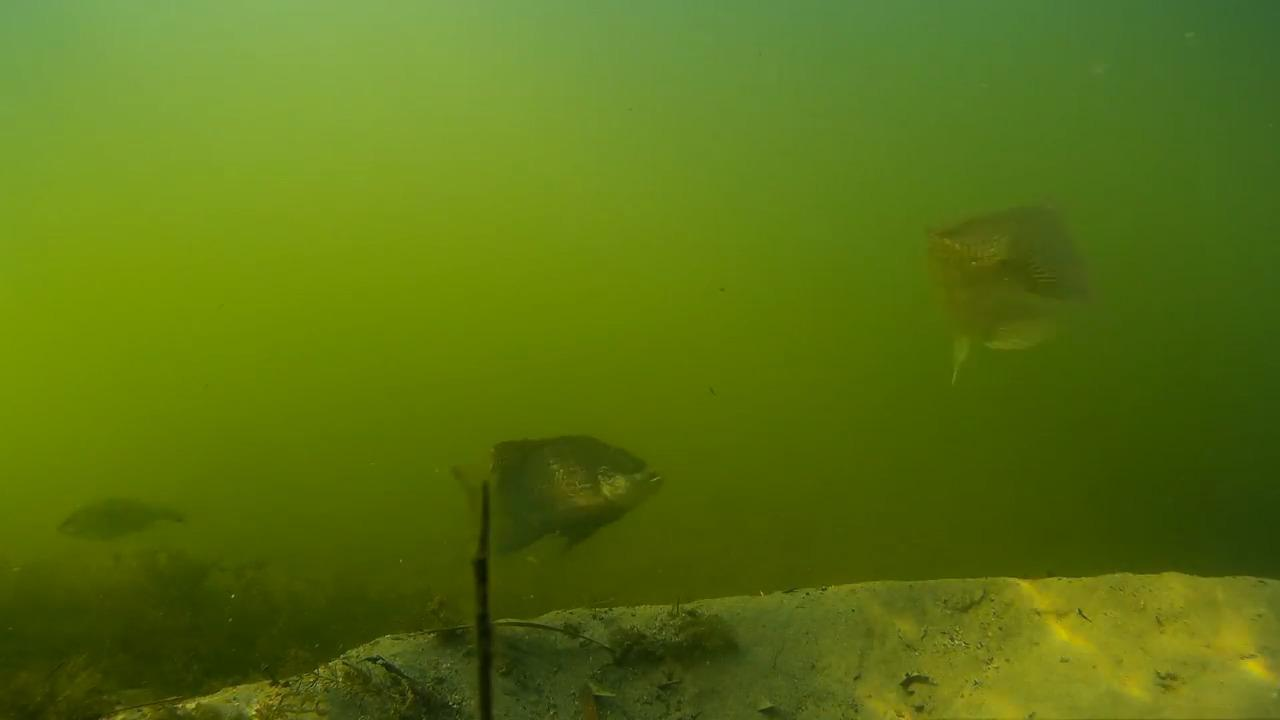Tilapia: (881, 178, 1106, 380), (450, 430, 693, 576), (47, 488, 189, 586)
